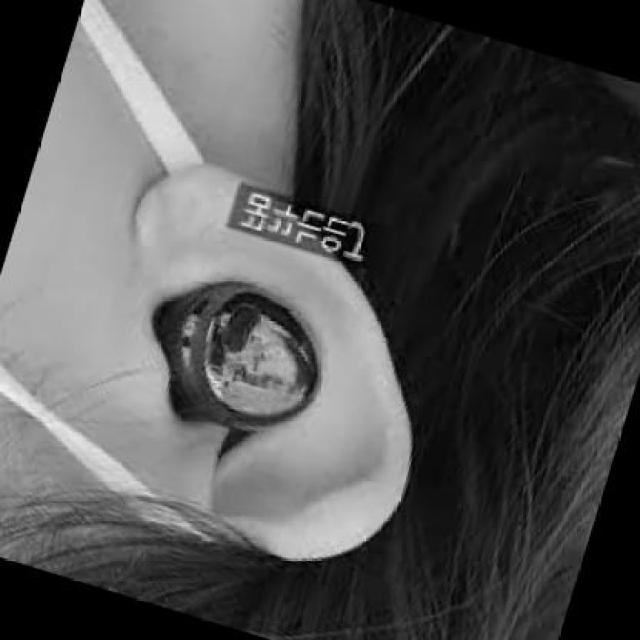earphone: (150, 250, 356, 393)
